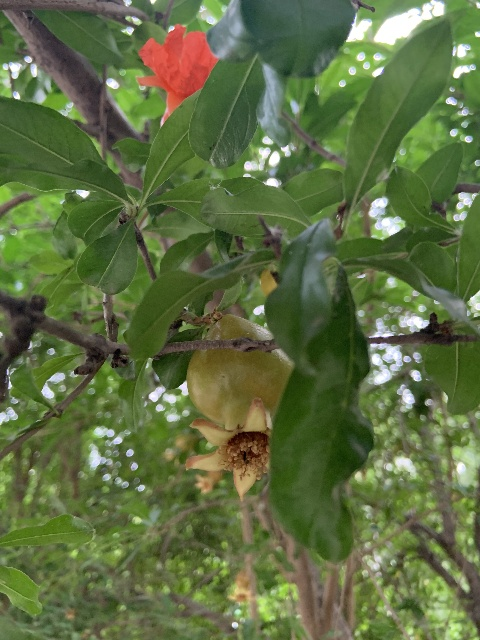flower: (135, 23, 220, 126)
mid-growth: (179, 314, 293, 501)
